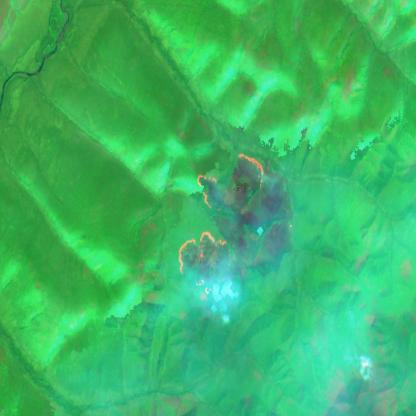fire: (170, 150, 269, 282)
